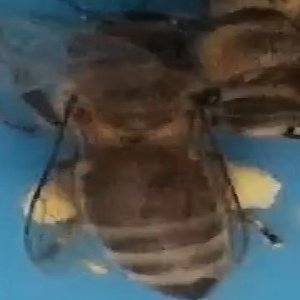bee: (27, 8, 223, 300)
